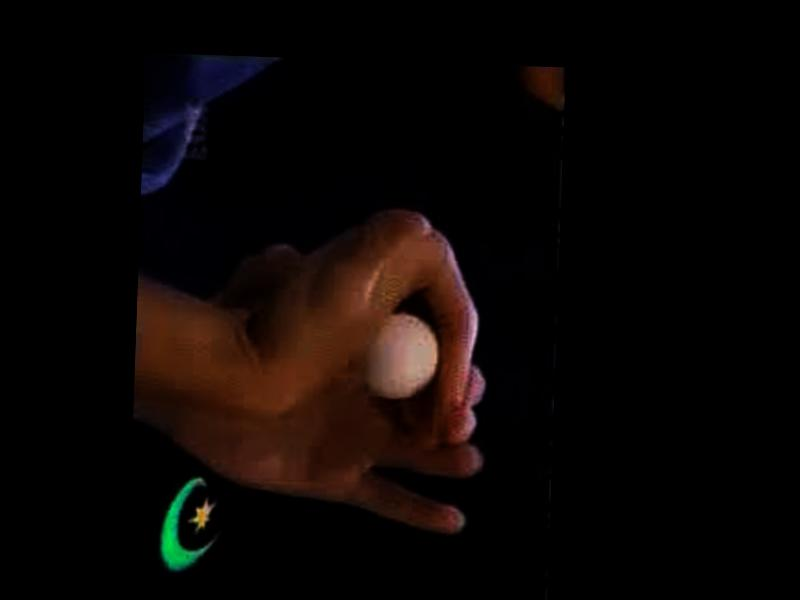Eggs: (370, 309, 442, 402)
